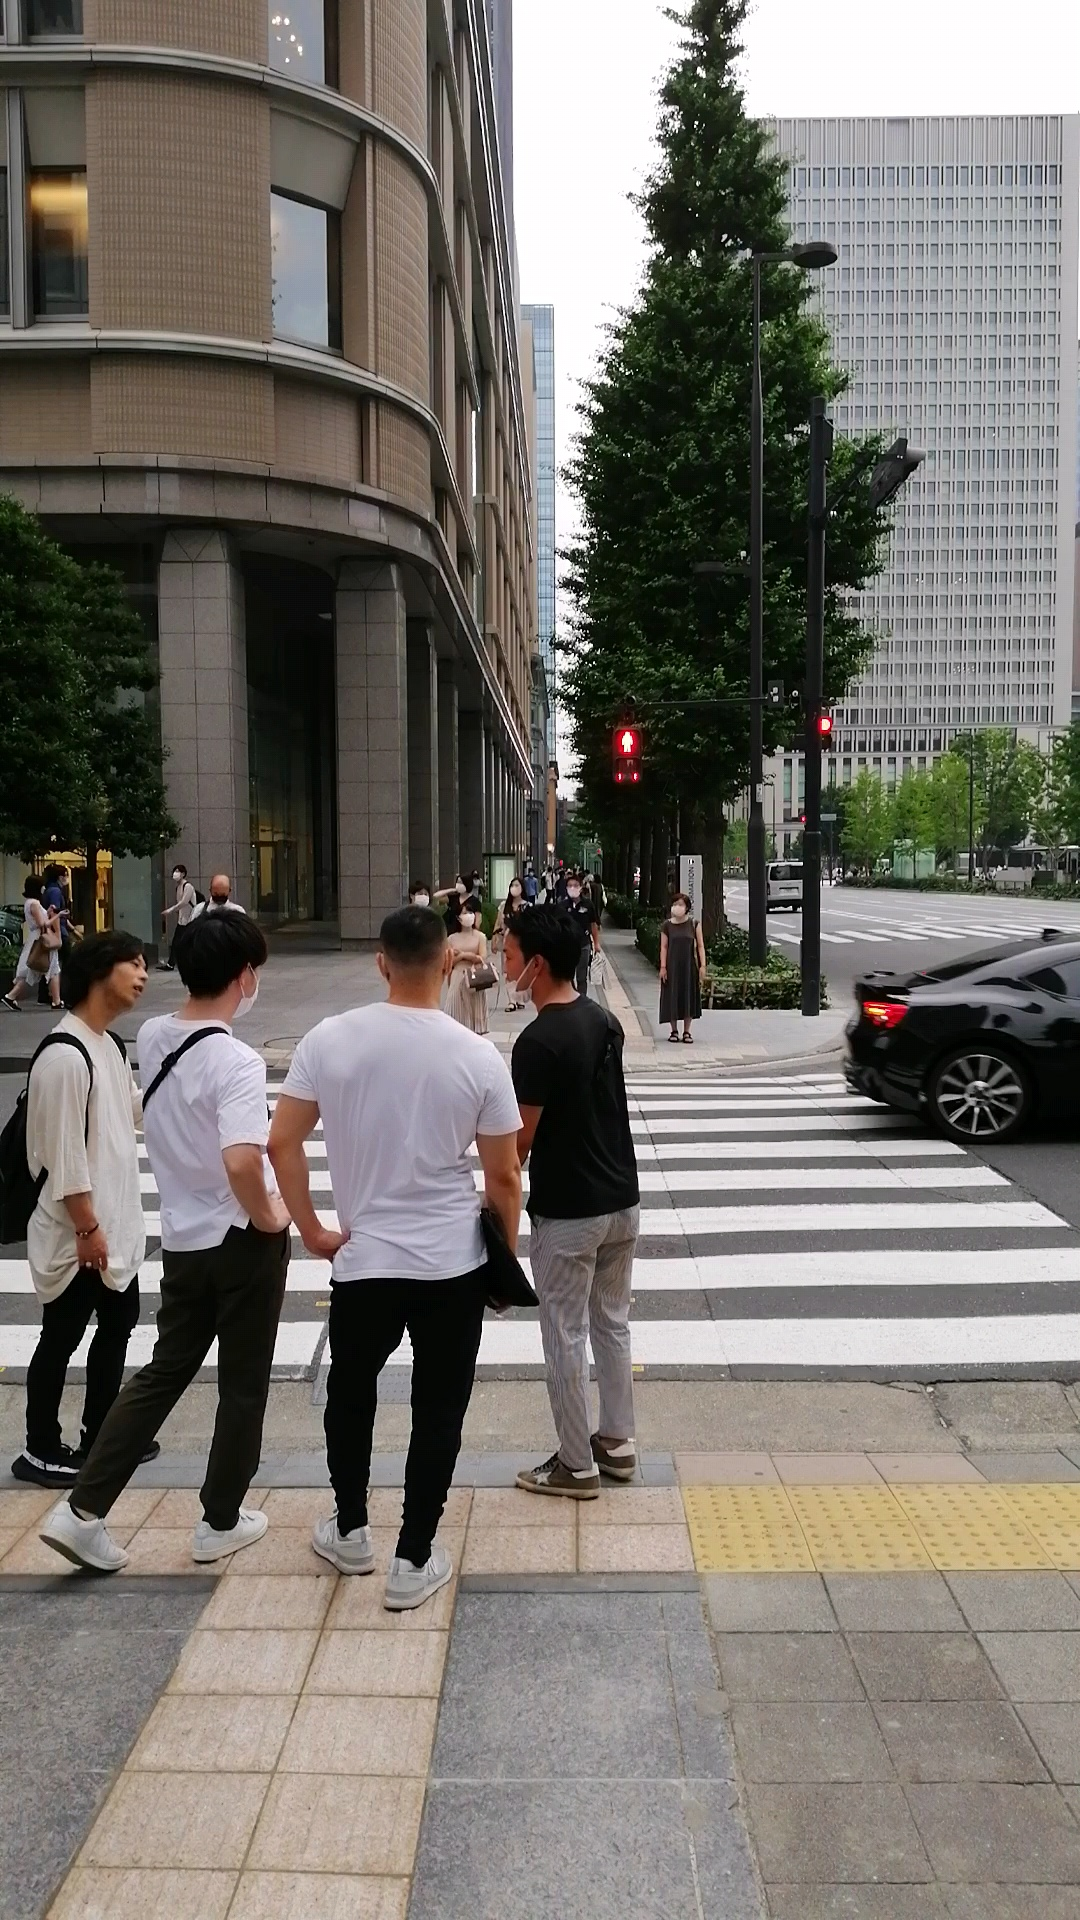red: (608, 724, 645, 790)
